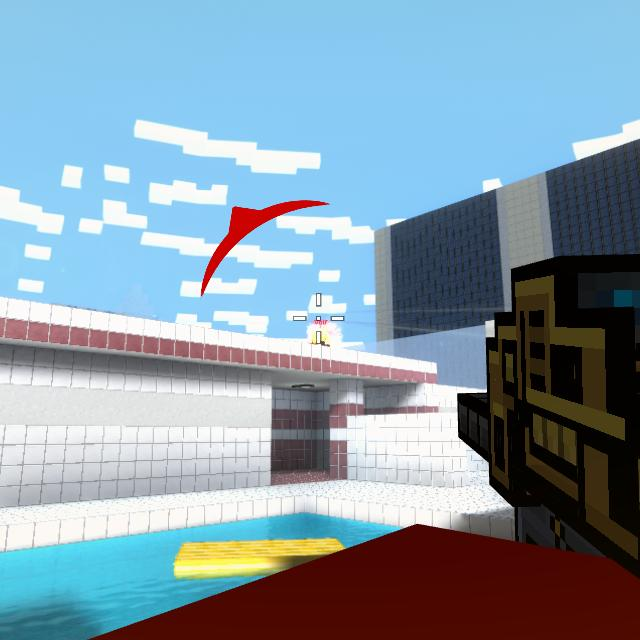Enemy: (311, 331, 332, 347)
